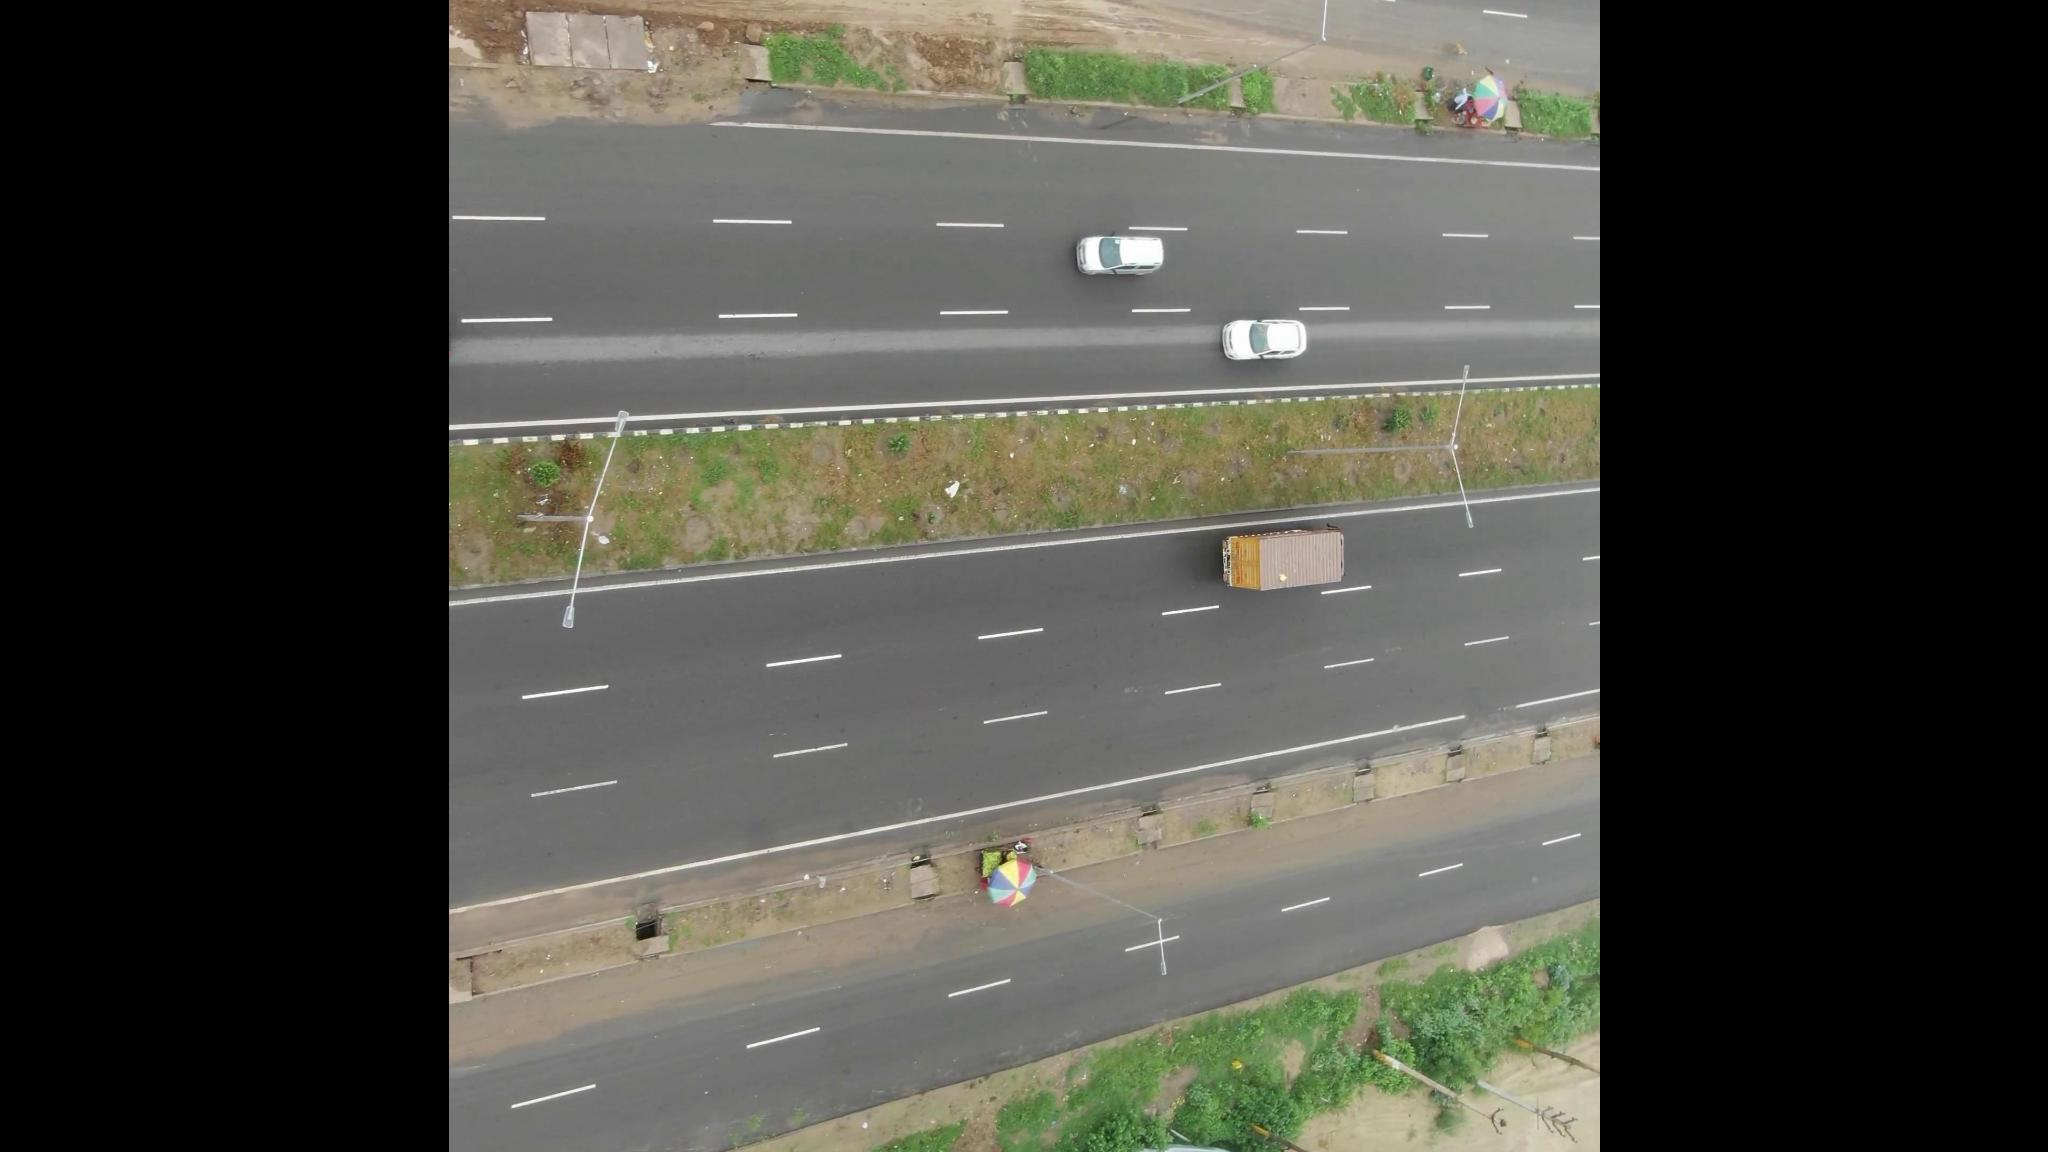Muddy_road: (727, 1, 985, 65)
